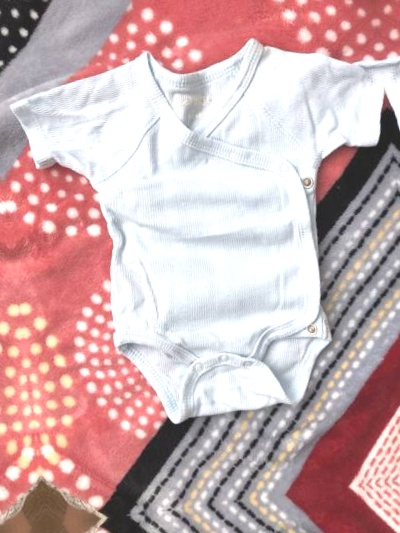Body: (2, 12, 400, 443), (0, 64, 22, 494), (379, 0, 400, 394)
